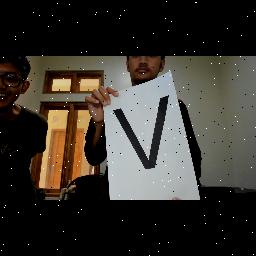v: (102, 90, 188, 170)
